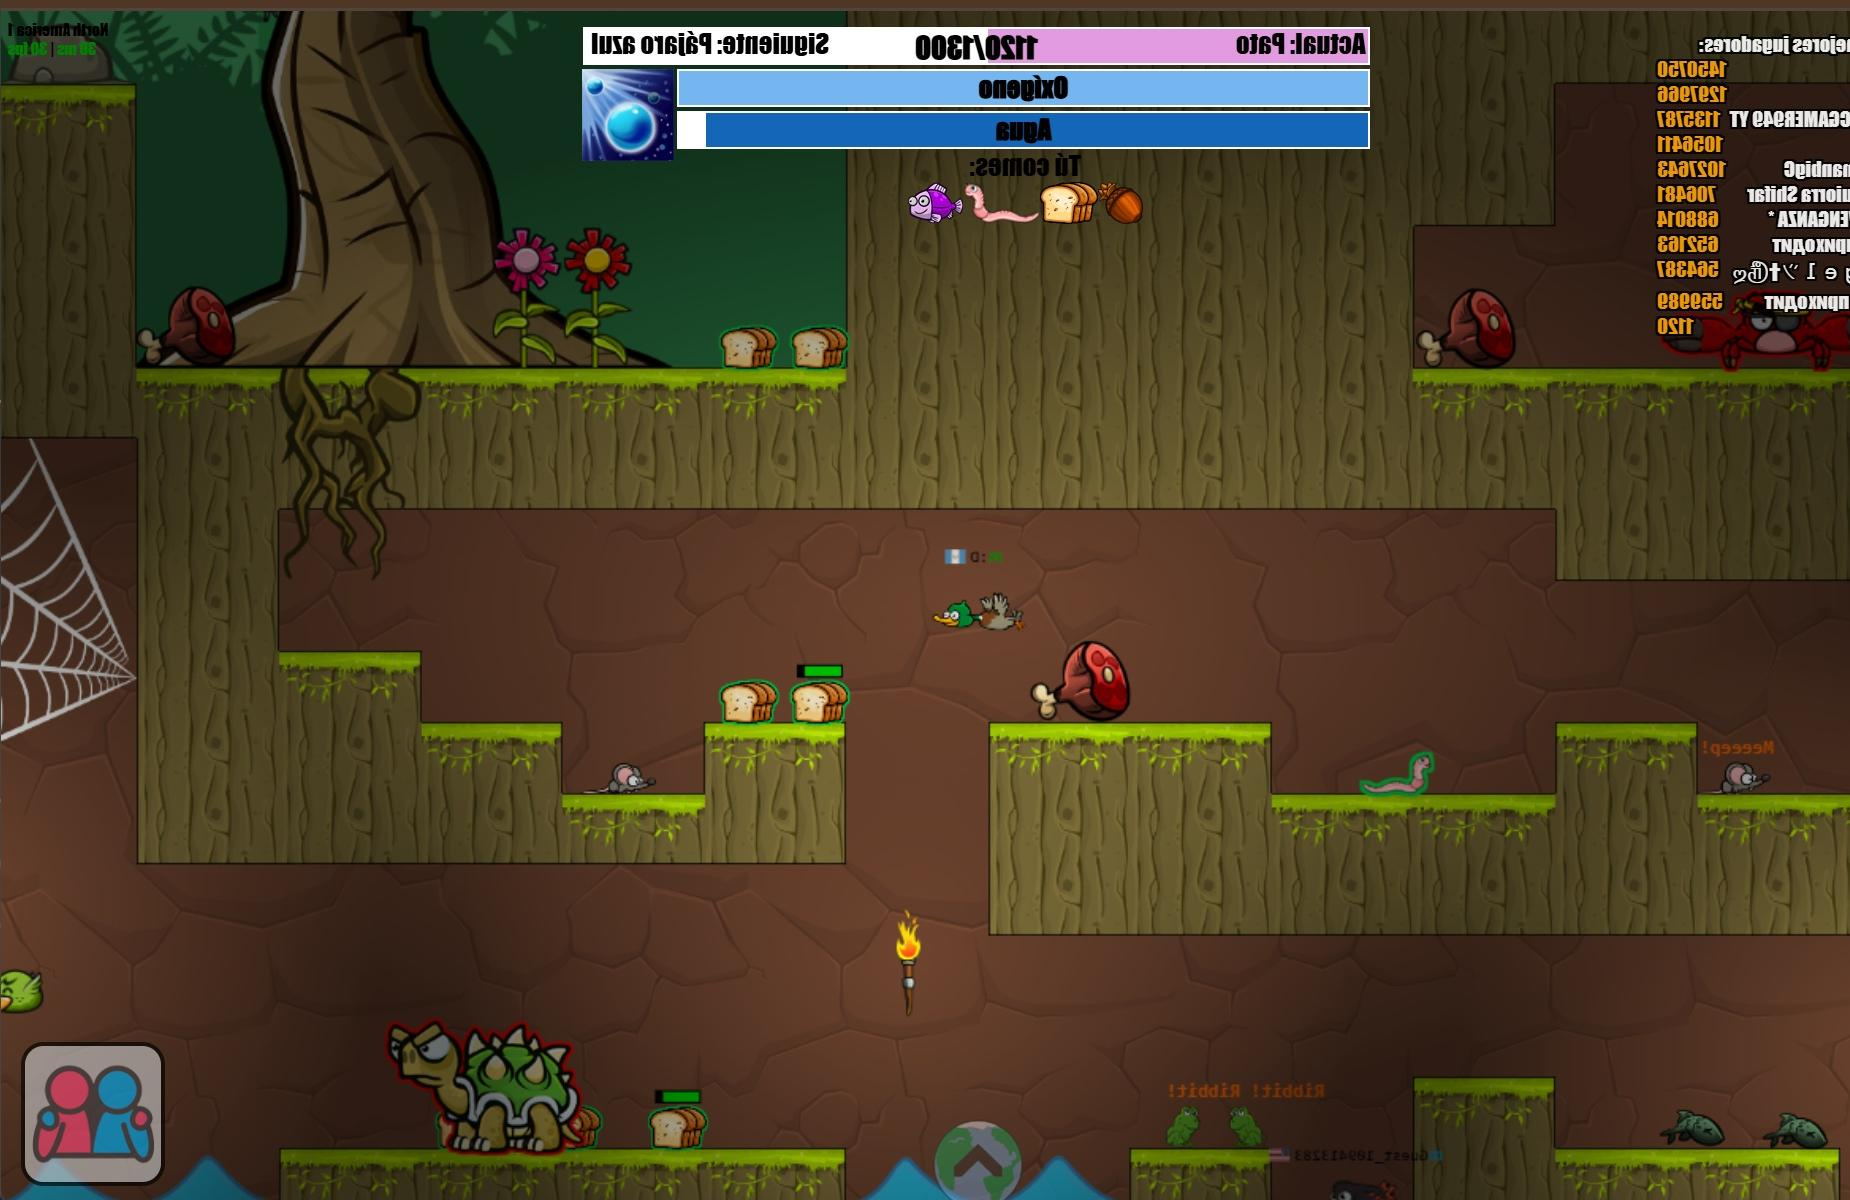antorcha: (890, 914, 925, 967)
avellana: (1098, 179, 1146, 228)
cangrejo: (1659, 289, 1850, 372)
carne: (138, 284, 240, 373), (1034, 636, 1133, 723), (1424, 286, 1518, 371)
flor: (491, 224, 558, 295), (562, 227, 632, 293)
gusano: (1356, 747, 1433, 796), (965, 181, 1040, 222)
mascota: (0, 971, 42, 1011)
mirio: (1325, 1172, 1398, 1200)
pan: (789, 320, 851, 369), (719, 678, 781, 723), (717, 324, 777, 369), (793, 677, 848, 724), (647, 1106, 705, 1149), (1044, 178, 1096, 225), (569, 1104, 601, 1147)
pato: (929, 592, 1026, 630)
pescado: (1664, 1106, 1726, 1143), (1765, 1114, 1827, 1147)
pez: (907, 181, 960, 227)
raiz: (282, 363, 419, 582)
rana: (1164, 1103, 1203, 1149), (1230, 1104, 1265, 1145)
raton: (1715, 759, 1770, 793), (603, 760, 658, 793)
tela: (0, 440, 132, 750)
tortuga: (384, 1022, 587, 1154)
vida: (796, 659, 845, 677)
